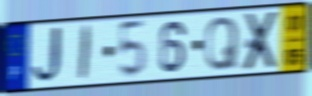5: (116, 17, 149, 82)
6: (158, 19, 188, 76)
I: (77, 24, 94, 84)
J: (31, 24, 67, 87)
Q: (203, 15, 240, 74)
X: (241, 9, 281, 74)
